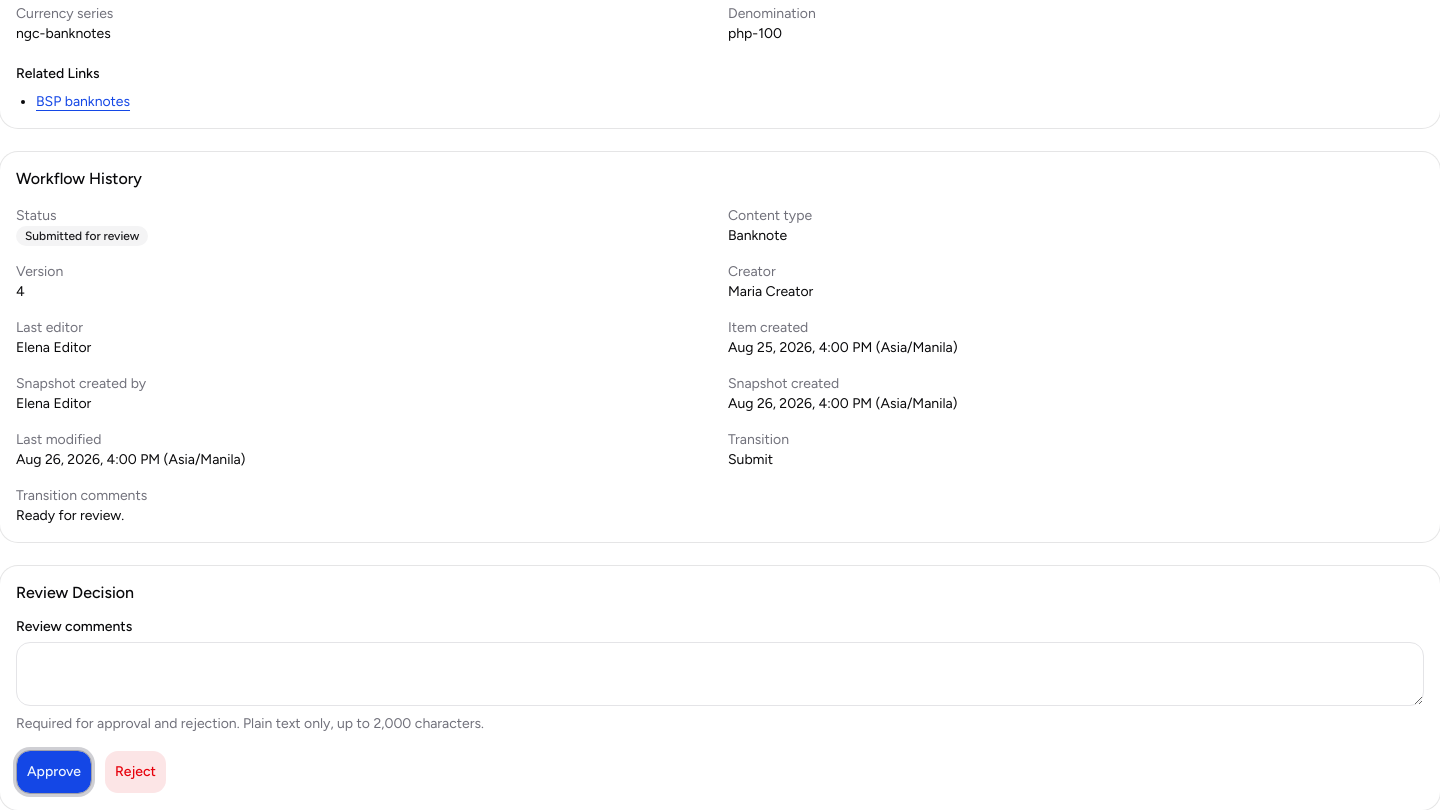
ContentReviewView › enforces contract-aligned plain text and accepts punctuation for approve/reject
Later steps or results of the test are not shown.
(page scrolled)
Press Enter
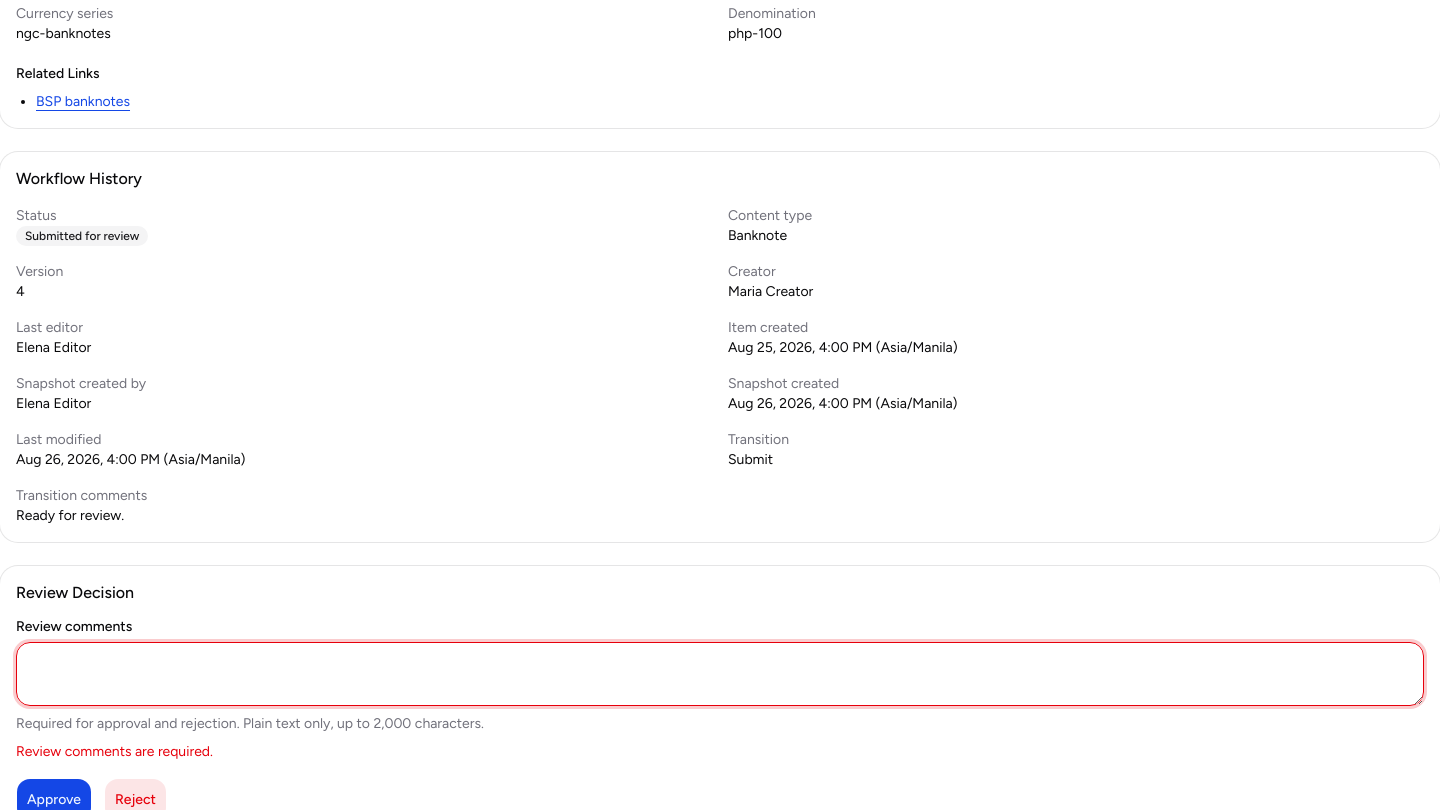
Expected: the message shows "comments are required", x1=16 y1=743 x2=213 y2=760
Type "<b>Approved</b>" into the text box labelled "Review comments" at (720, 674), box x1=16 y1=642 x2=1424 y2=706
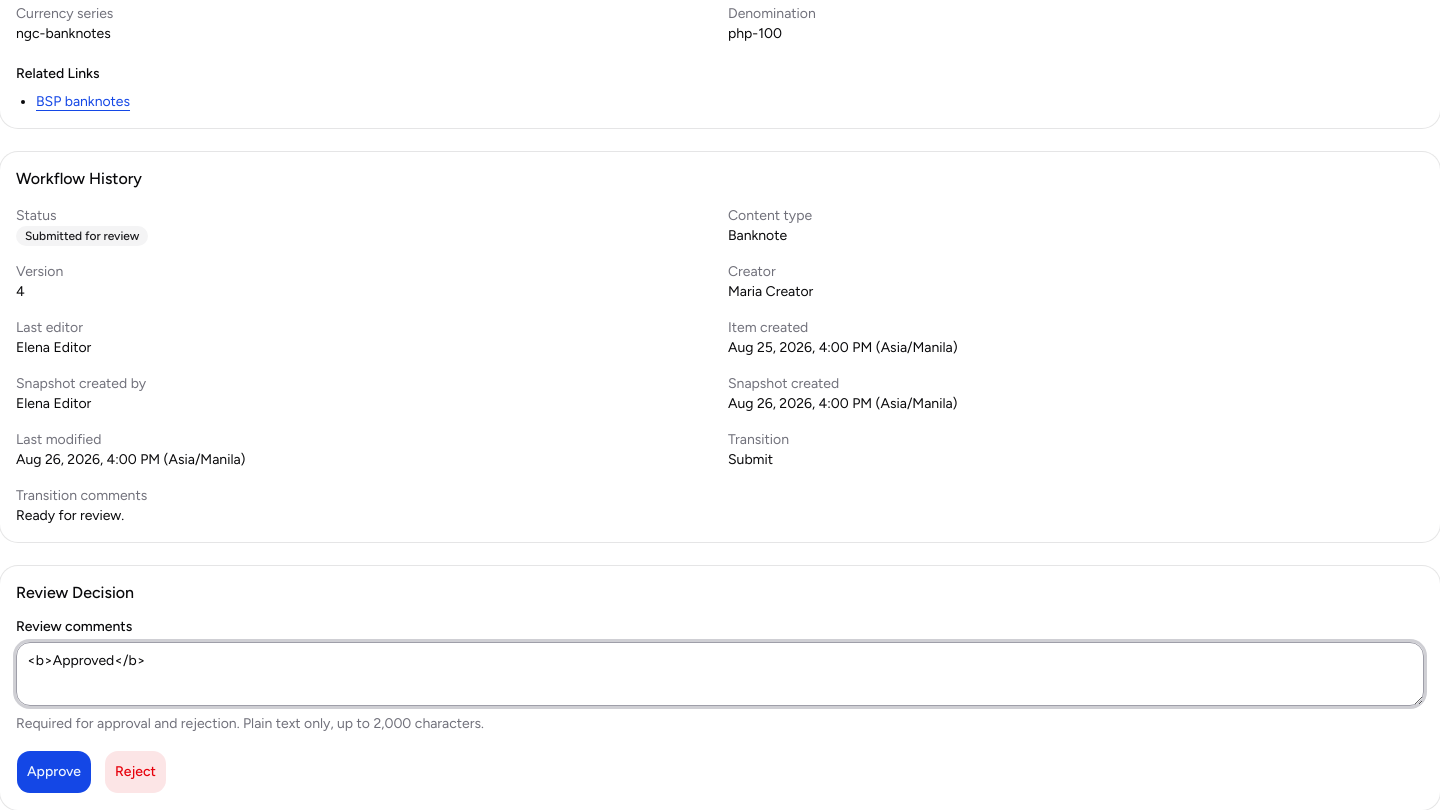
Click the button "Approve" at (54, 772), box x1=16 y1=750 x2=92 y2=794
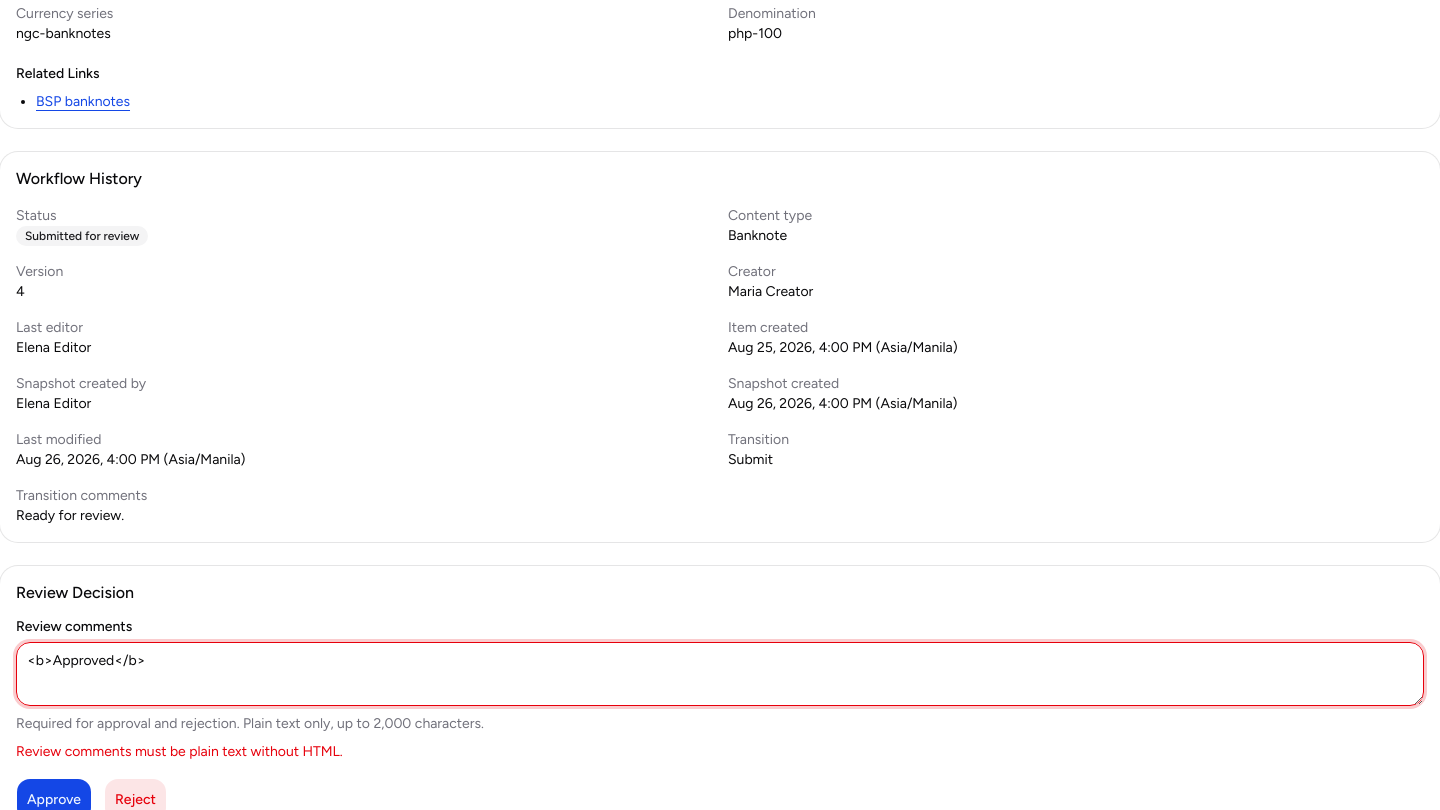
Expected: the message reads "Review comments must be plain text without HTML.", x1=16 y1=743 x2=343 y2=760
